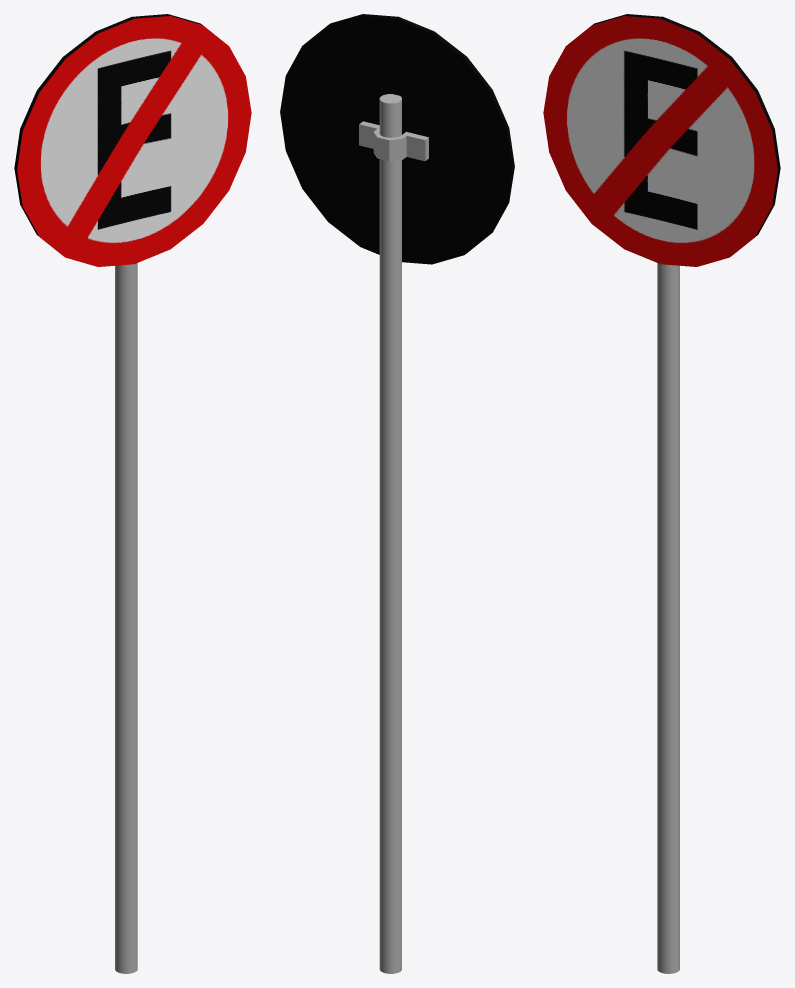
The model's file is NAOESTACIONE2.fbx.
3 views of the same model, side by side, from view 1: azimuth 30°, elevation 25°; view 2: azimuth 150°, elevation 25°; view 3: azimuth 330°, elevation 25° (orthographic).
Visible parts, largest first — view 1: pCylinder3, pCylinder2; view 2: pCylinder3, pCylinder2, pPipe1; view 3: pCylinder3, pCylinder2.
Part boxes in pixels (box(x1,y1,x2,y2)): pCylinder3: box(14, 14, 251, 266); pCylinder2: box(115, 263, 137, 973); pCylinder3: box(280, 14, 514, 264); pCylinder2: box(379, 94, 401, 973); pPipe1: box(359, 121, 428, 161); pCylinder3: box(543, 14, 780, 266); pCylinder2: box(657, 263, 679, 973).
Bounding box in the file's own units: 4.92 × 19.15 × 0.5752.
